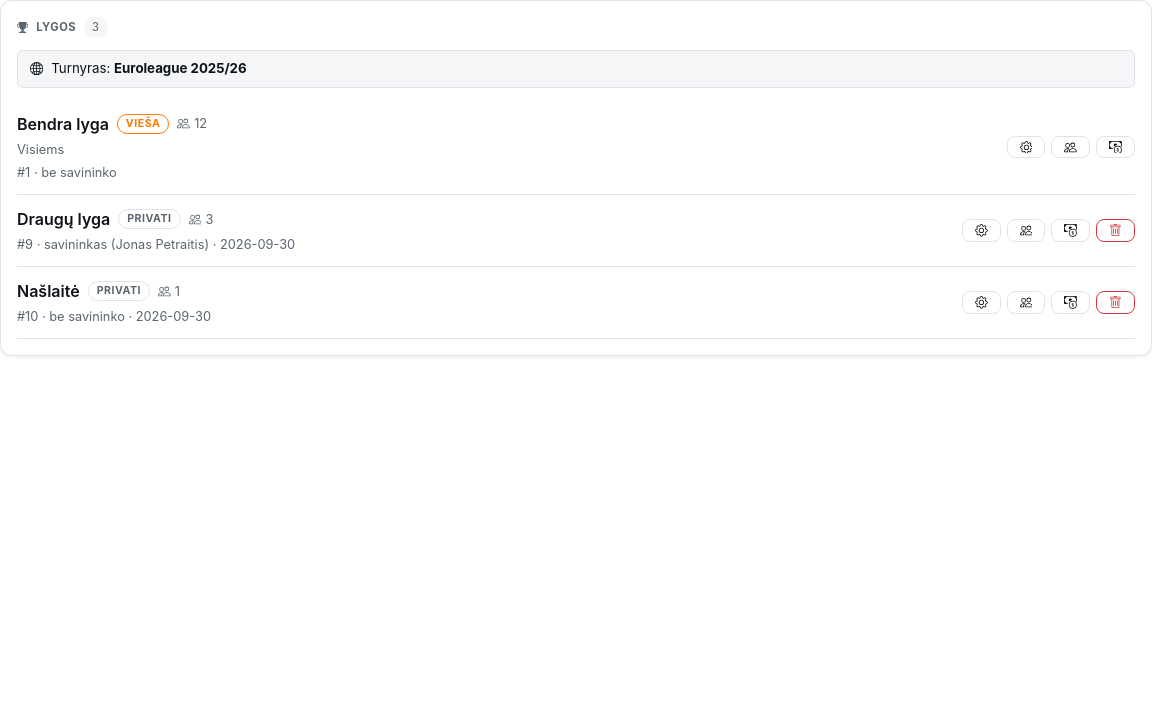
LeaguesView (admin/leagues.blade.php, R-87, R-95, R-118) › leagues: Redaguoti opens the owner's form filled with the league, posting to the admin update, with a note on the public league
Click the button named "Redaguoti" in the row of "Draugų lyga": (981, 231) [962,219,1001,242]
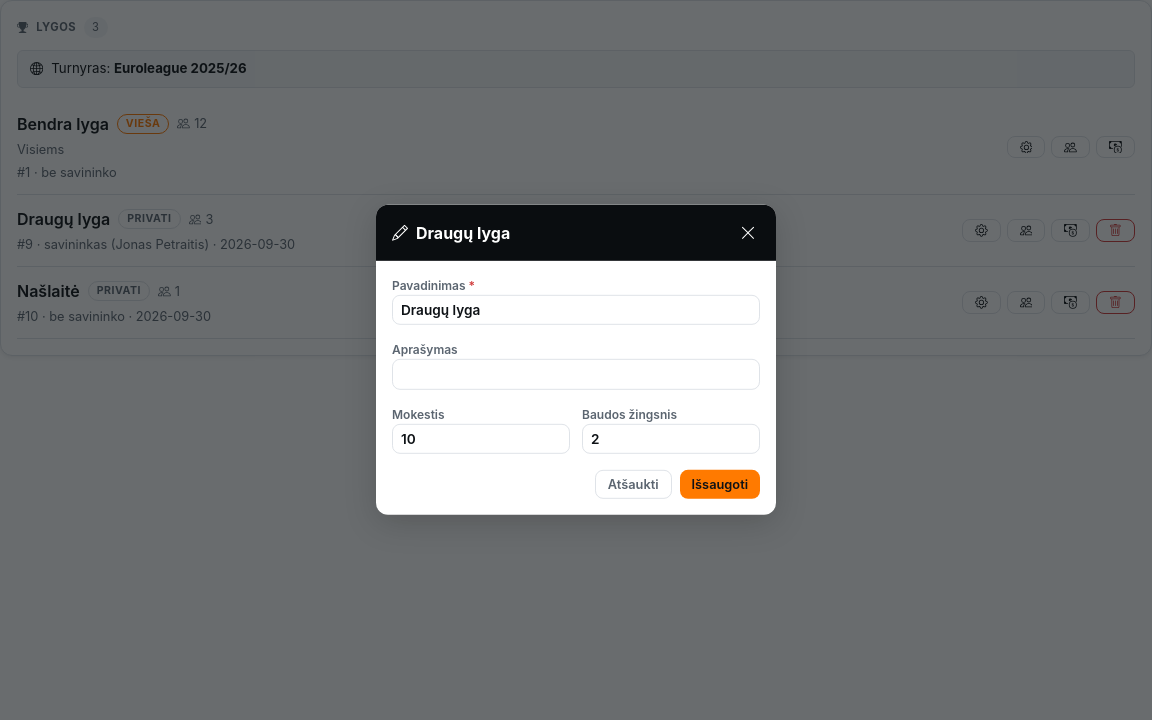
expect the form named "leagueID" holds "9": met, box [392,277,760,499]
expect the field labelled "Pavadinimas" holds "Draugų lyga": met, box [392,295,760,325]
expect the number field labelled "Mokestis" holds "10": met, box [392,424,570,454]
Click the button "Atšaukti": (633, 485) [595,470,672,499]
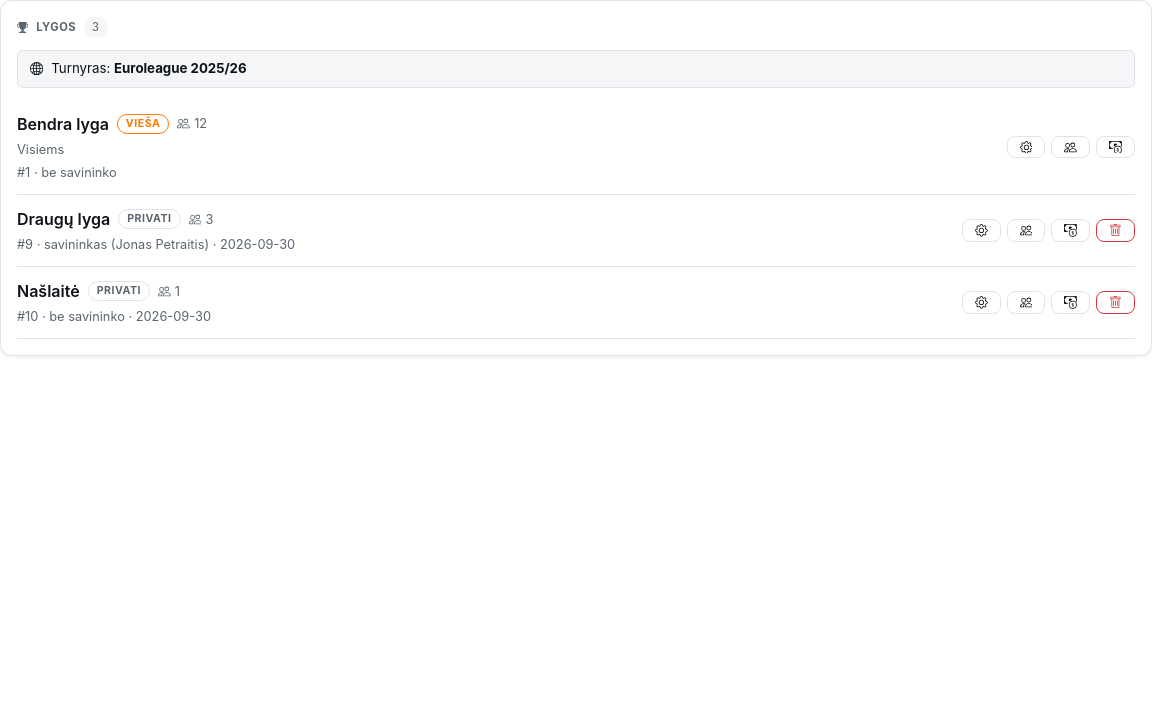
expect the dialog is gone: met
Click the button named "Redaguoti" in the row of "Visiems": (1026, 147) [1007,136,1045,158]
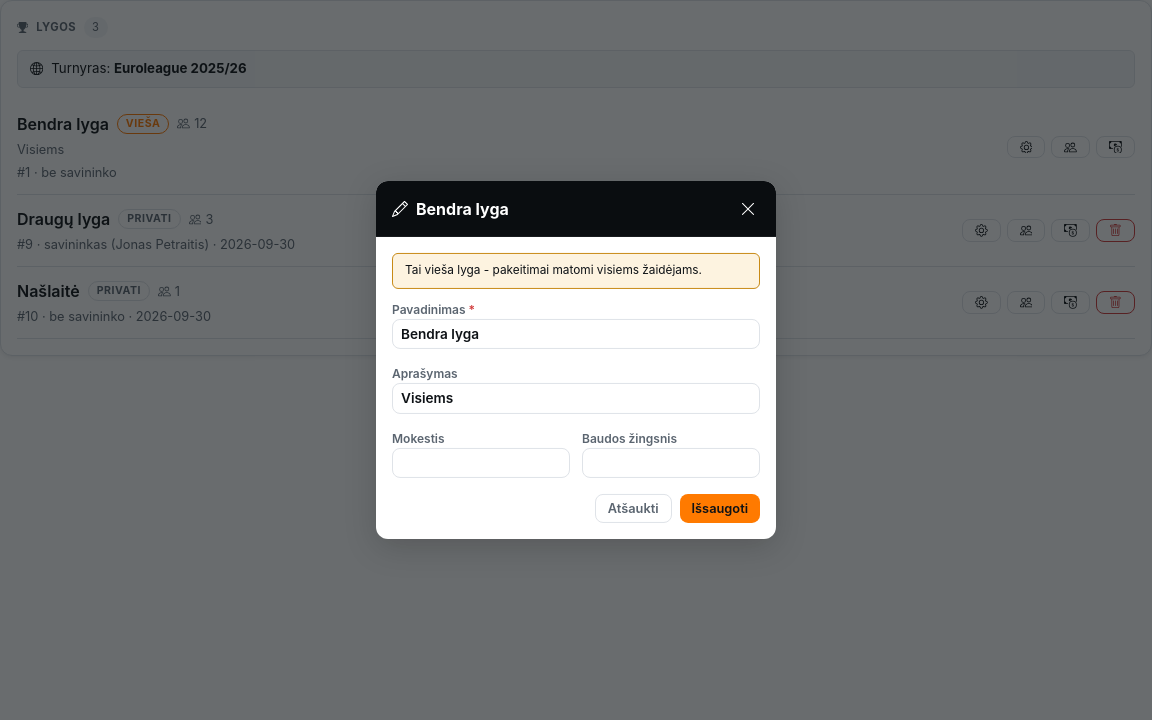
expect the text "Tai vieša lyga - pakeitimai matomi visiems žaidėjams." is shown: met, box [392,253,760,289]
